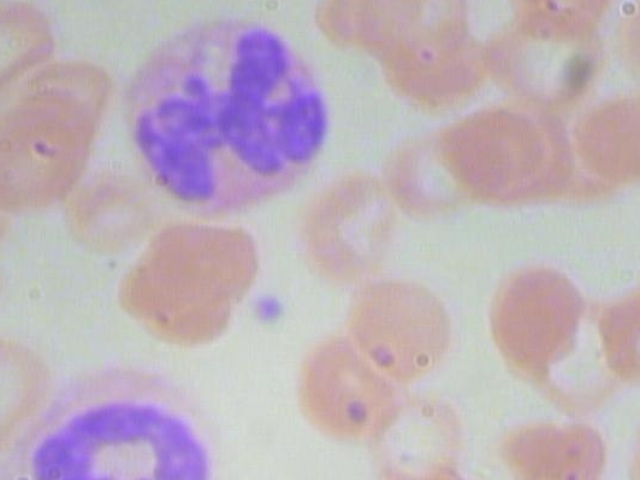Platelets: (244, 291, 286, 327)
WBC: (107, 8, 347, 221), (0, 361, 245, 480)
